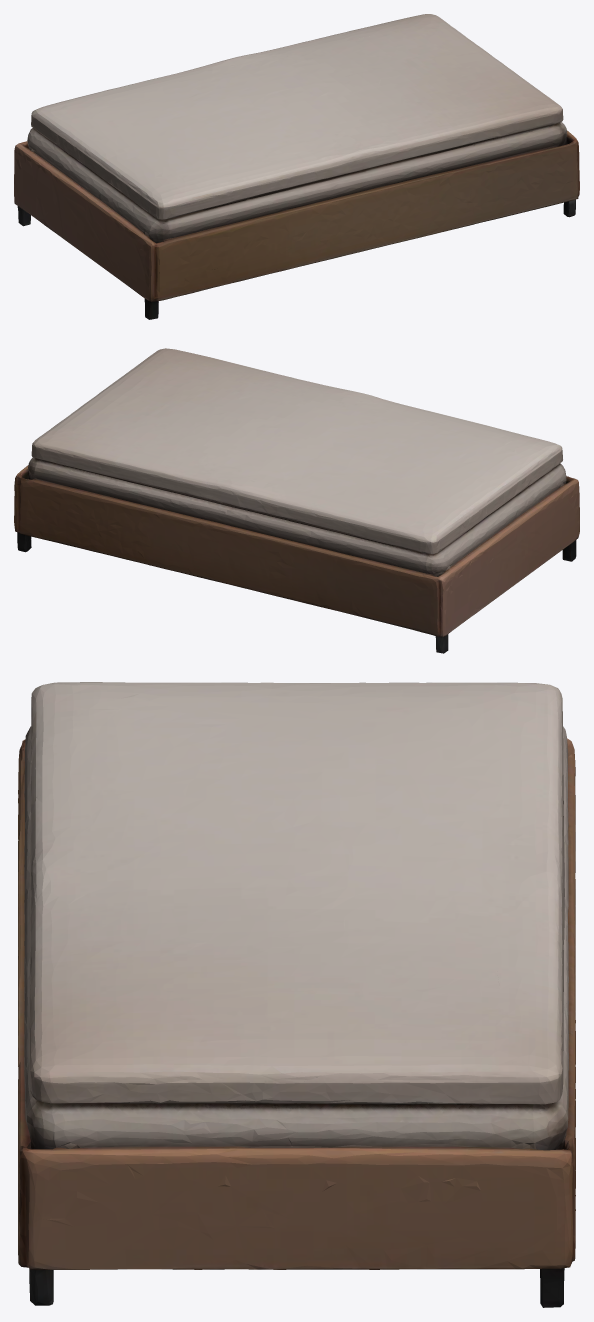
File: ast_43bc7ba471cf.glb
3 renders of one model, top to bottom at view 1: azimuth 30°, elevation 25°; view 2: azimuth 150°, elevation 25°; view 3: azimuth 270°, elevation 25°, orthographic. The views are drawn at different scales.
Parts seen in each view (by area): view 1: geometry_0; view 2: geometry_0; view 3: geometry_0.
Boxes of the visible parts, x1,y1,x2,y2 form: geometry_0: (14, 14, 579, 319); geometry_0: (14, 348, 579, 653); geometry_0: (18, 682, 575, 1307).
Bounding box in the file's own units: 1 × 0.2661 × 0.5603.
1 material, 1 textured.
